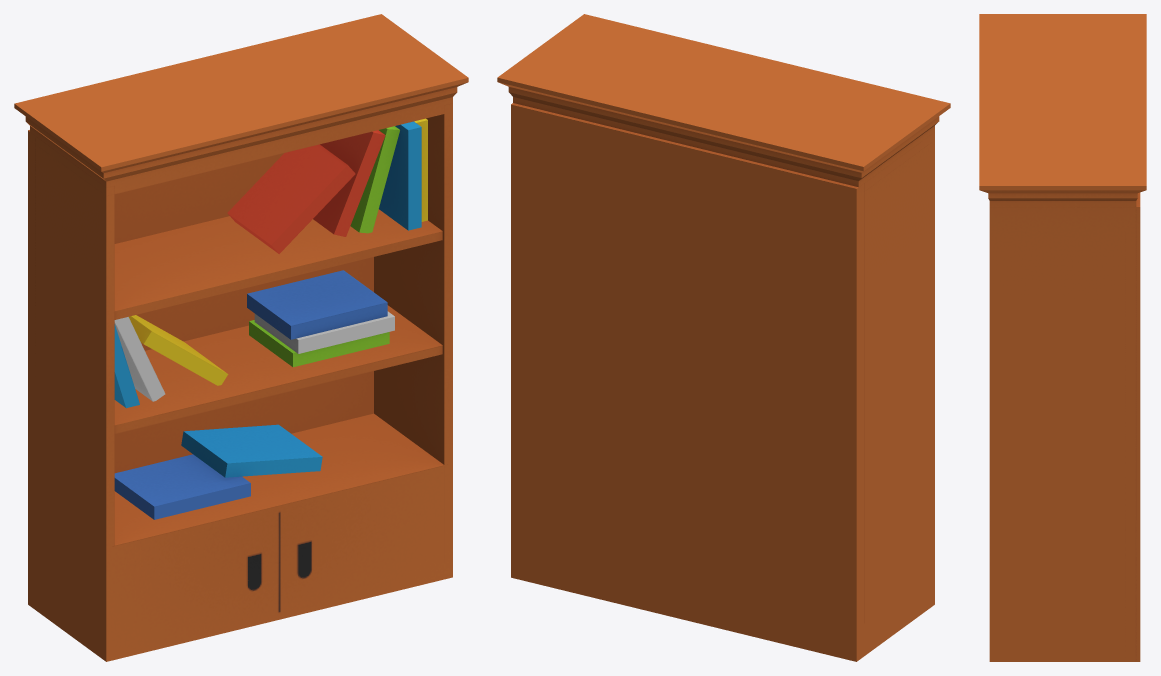
File: BookSelf.fbx
The picture shows the model from 3 angles, left to right: view 1: azimuth 30°, elevation 25°; view 2: azimuth 150°, elevation 25°; view 3: azimuth 270°, elevation 25°; orthographic projection. The views are drawn at different scales.
Parts seen in each view (by area): view 1: ImposterEscape_BookSelf_geo; view 2: ImposterEscape_BookSelf_geo; view 3: ImposterEscape_BookSelf_geo.
Boxes of the visible parts, box(x1,y1,x2,y2) form: ImposterEscape_BookSelf_geo: box(14, 14, 468, 661); ImposterEscape_BookSelf_geo: box(497, 14, 950, 661); ImposterEscape_BookSelf_geo: box(979, 14, 1146, 661).
Bounding box in the file's own units: 6.74 × 8.78 × 2.77.
Materials: 1 (1 with a texture image).
